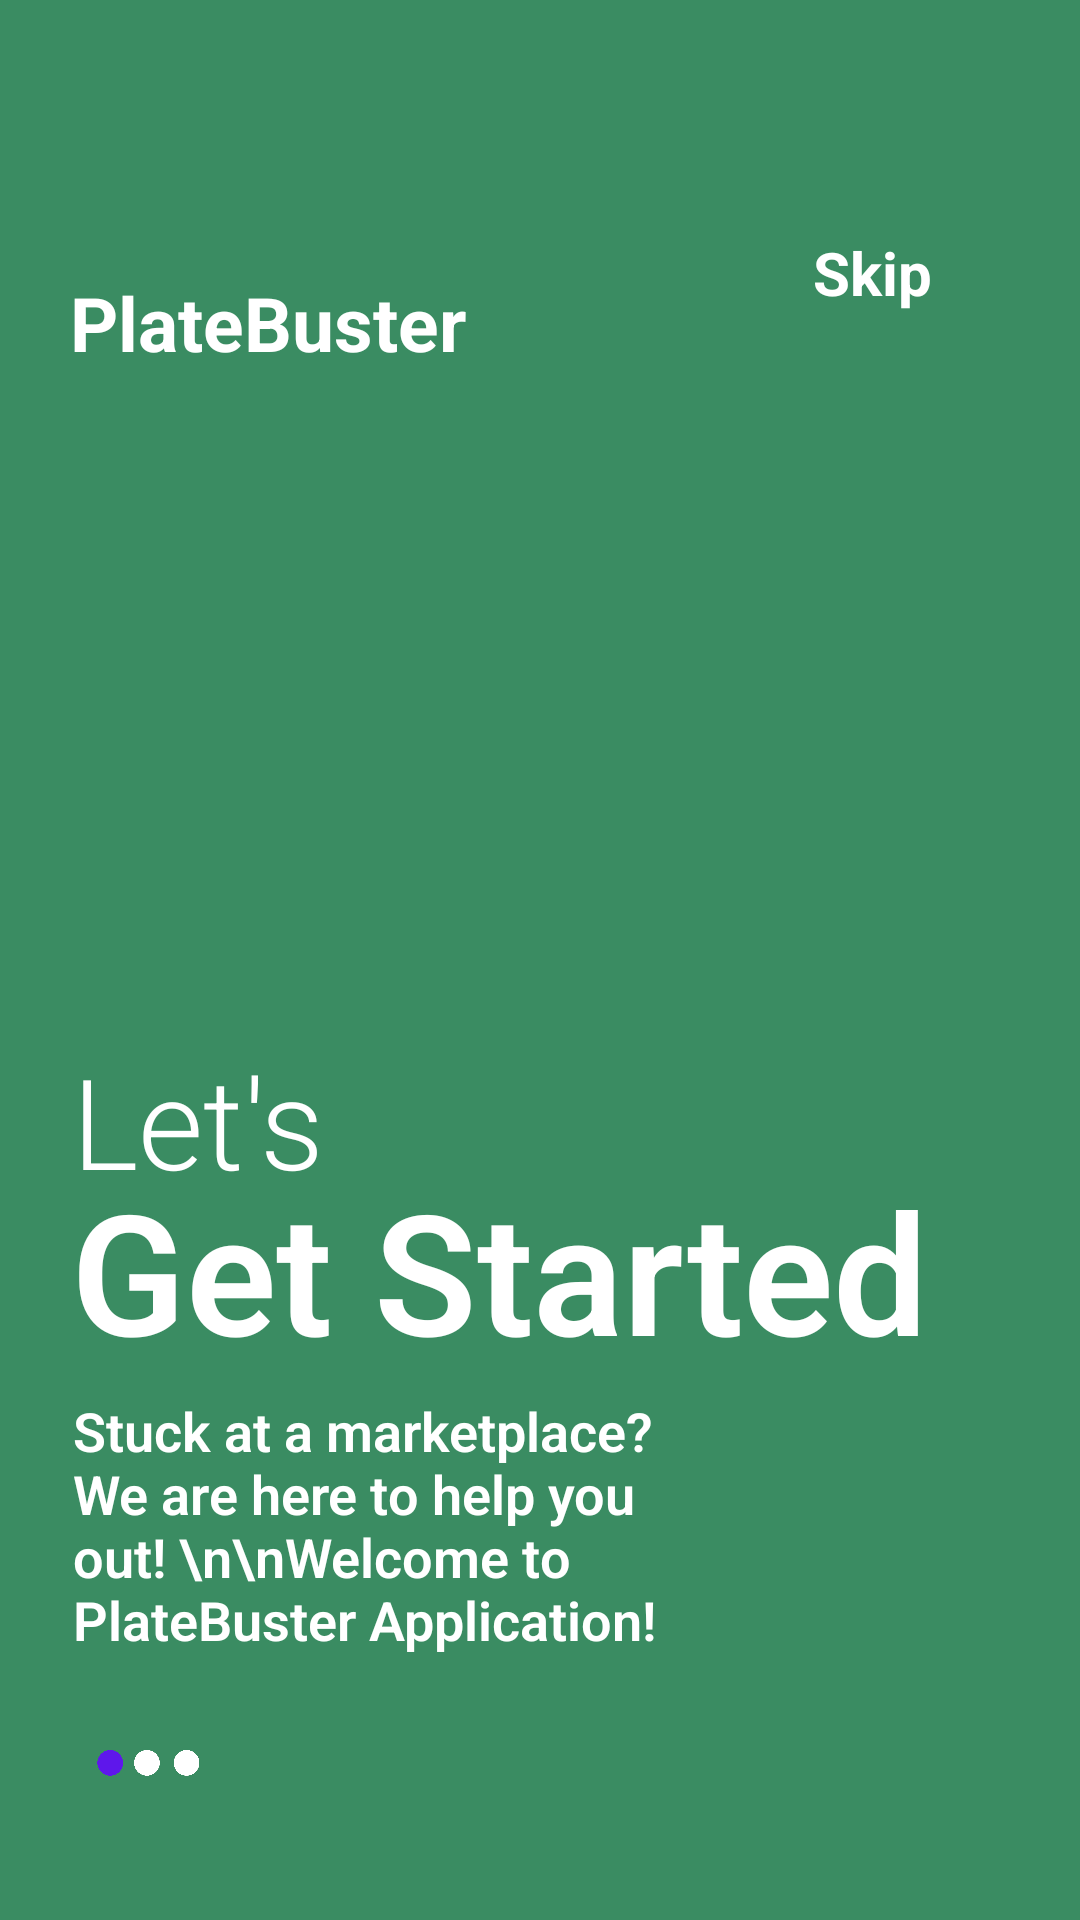

Locate icon controls on the screen. Image size 1080px×1920px, boxes as (x1, y1, x2, y2).
tab: (97, 1750, 199, 1776)
